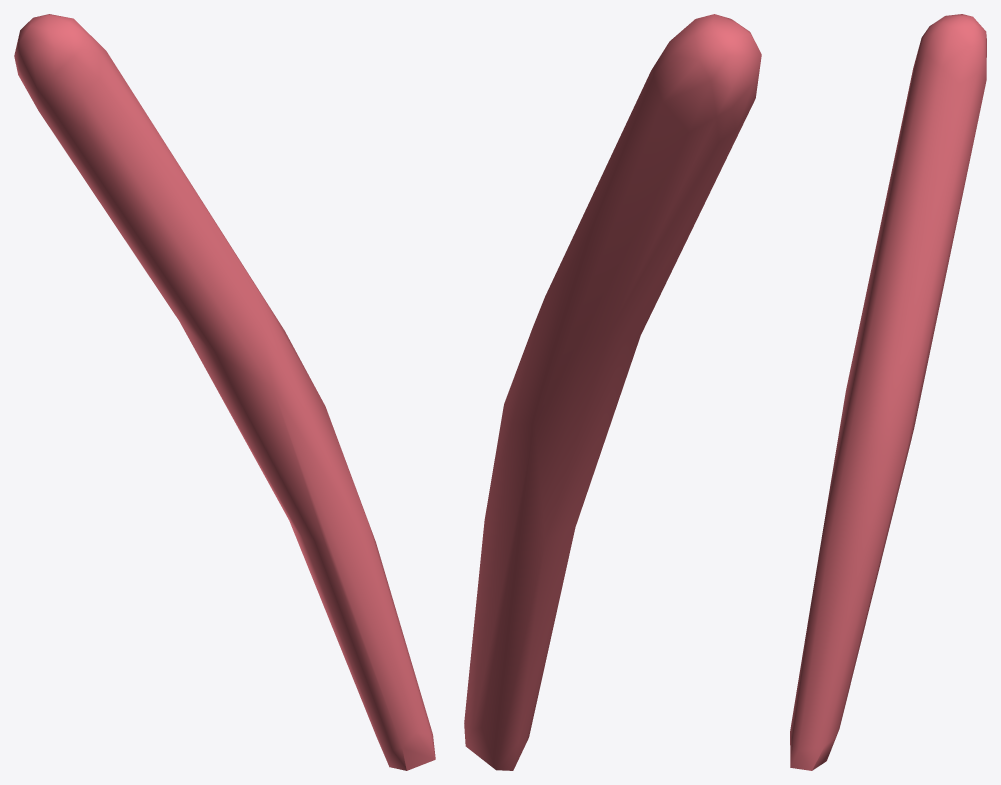
The model's file is fma9450_fj2952.glb.
The picture shows the model from 3 angles, left to right: view 1: azimuth 30°, elevation 25°; view 2: azimuth 150°, elevation 25°; view 3: azimuth 270°, elevation 25°; orthographic projection. The views are drawn at different scales.
Visible parts, largest first — view 1: FMA9450_FJ2952; view 2: FMA9450_FJ2952; view 3: FMA9450_FJ2952.
Part boxes in pixels (bbox=[...]): FMA9450_FJ2952: bbox=[14, 14, 435, 770]; FMA9450_FJ2952: bbox=[464, 14, 761, 770]; FMA9450_FJ2952: bbox=[790, 14, 986, 770].
Size of the model in its own units: 0.0112 by 0.0245 by 0.00682.
